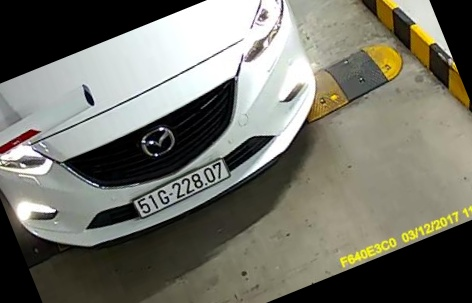plate: (130, 159, 236, 222)
